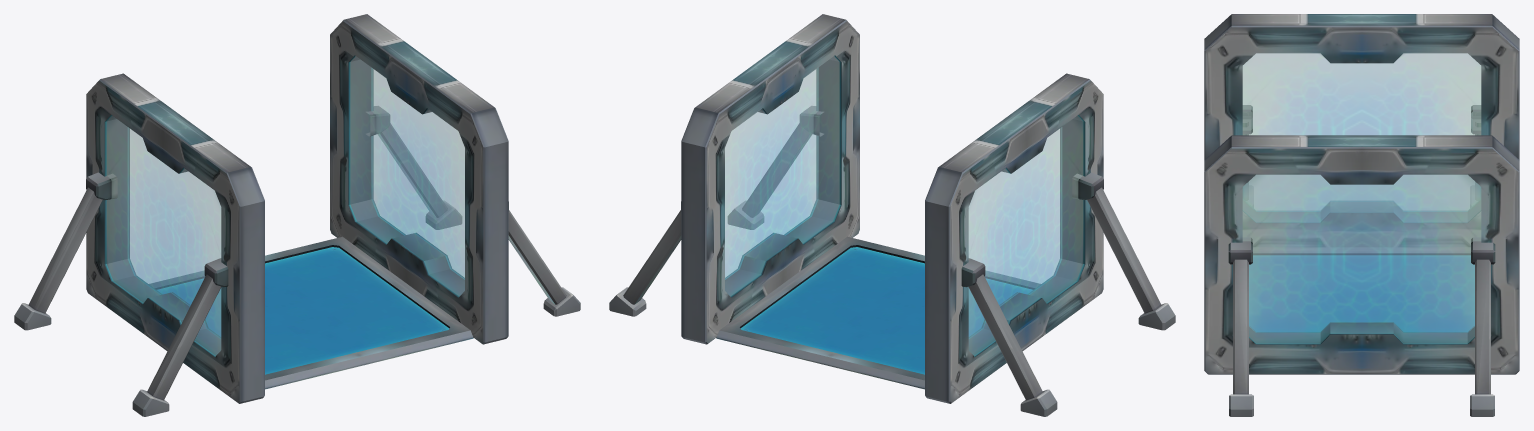
Rendered from healing_station.glb.
3 renders of one model, left to right at view 1: azimuth 30°, elevation 25°; view 2: azimuth 150°, elevation 25°; view 3: azimuth 270°, elevation 25°, orthographic. The views are drawn at different scales.
Parts seen in each view (by area): view 1: HealingStationMesh; view 2: HealingStationMesh; view 3: HealingStationMesh.
Boxes of the visible parts, box(x1,y1,x2,y2) form: HealingStationMesh: box(14, 14, 580, 416); HealingStationMesh: box(609, 14, 1175, 416); HealingStationMesh: box(1204, 14, 1519, 416).
Bounding box in the file's own units: 7.14 × 3.48 × 4.37.
Materials: 2 (2 with a texture image).
